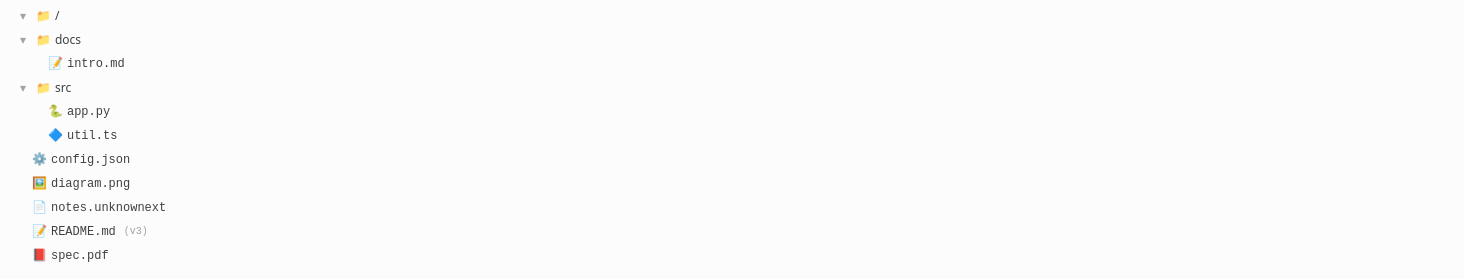
Scenario: FileTree › collapses and re-expands a folder
The image size is (1464, 279).
Check: the button with test id "file-tree-file-src/app.py" is shown, box [12,100,1452,124]
Click the button with test id "file-tree-folder-src": [23, 88] box [12,76,1452,100]
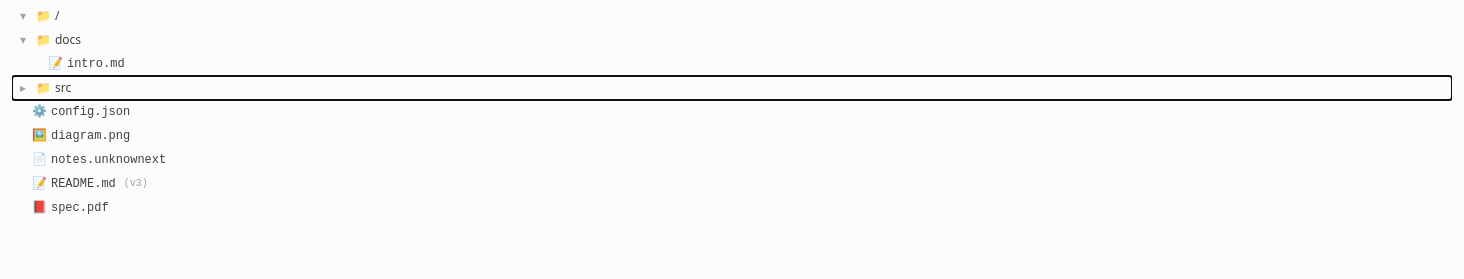
Click the button with test id "file-tree-folder-src": [23, 88] box [12,76,1452,100]
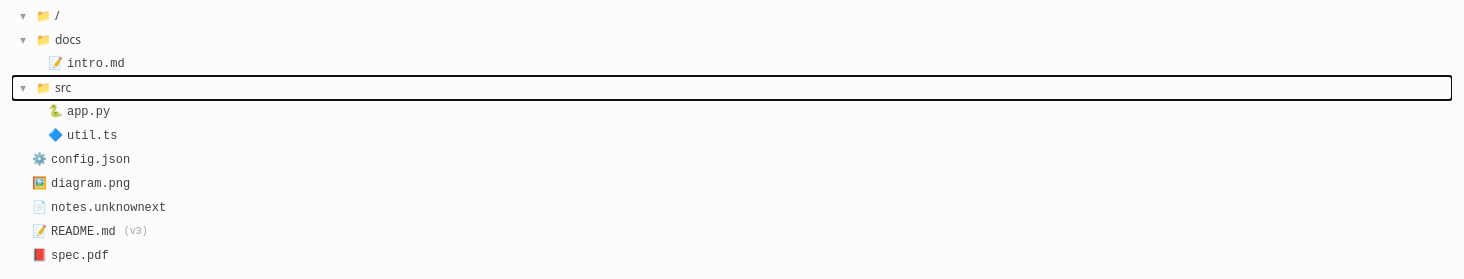
Check: the button with test id "file-tree-file-src/app.py" is shown, box [12,100,1452,124]
